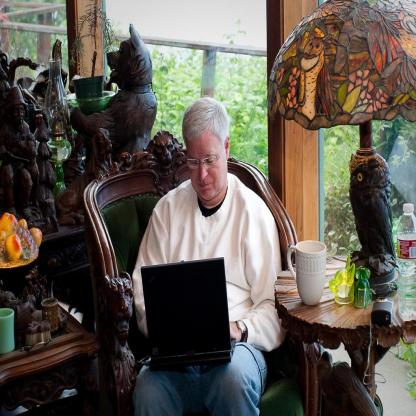board: (140, 258, 236, 370), (396, 203, 416, 320)
